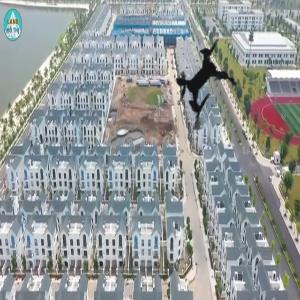drone: (136, 15, 274, 153)
